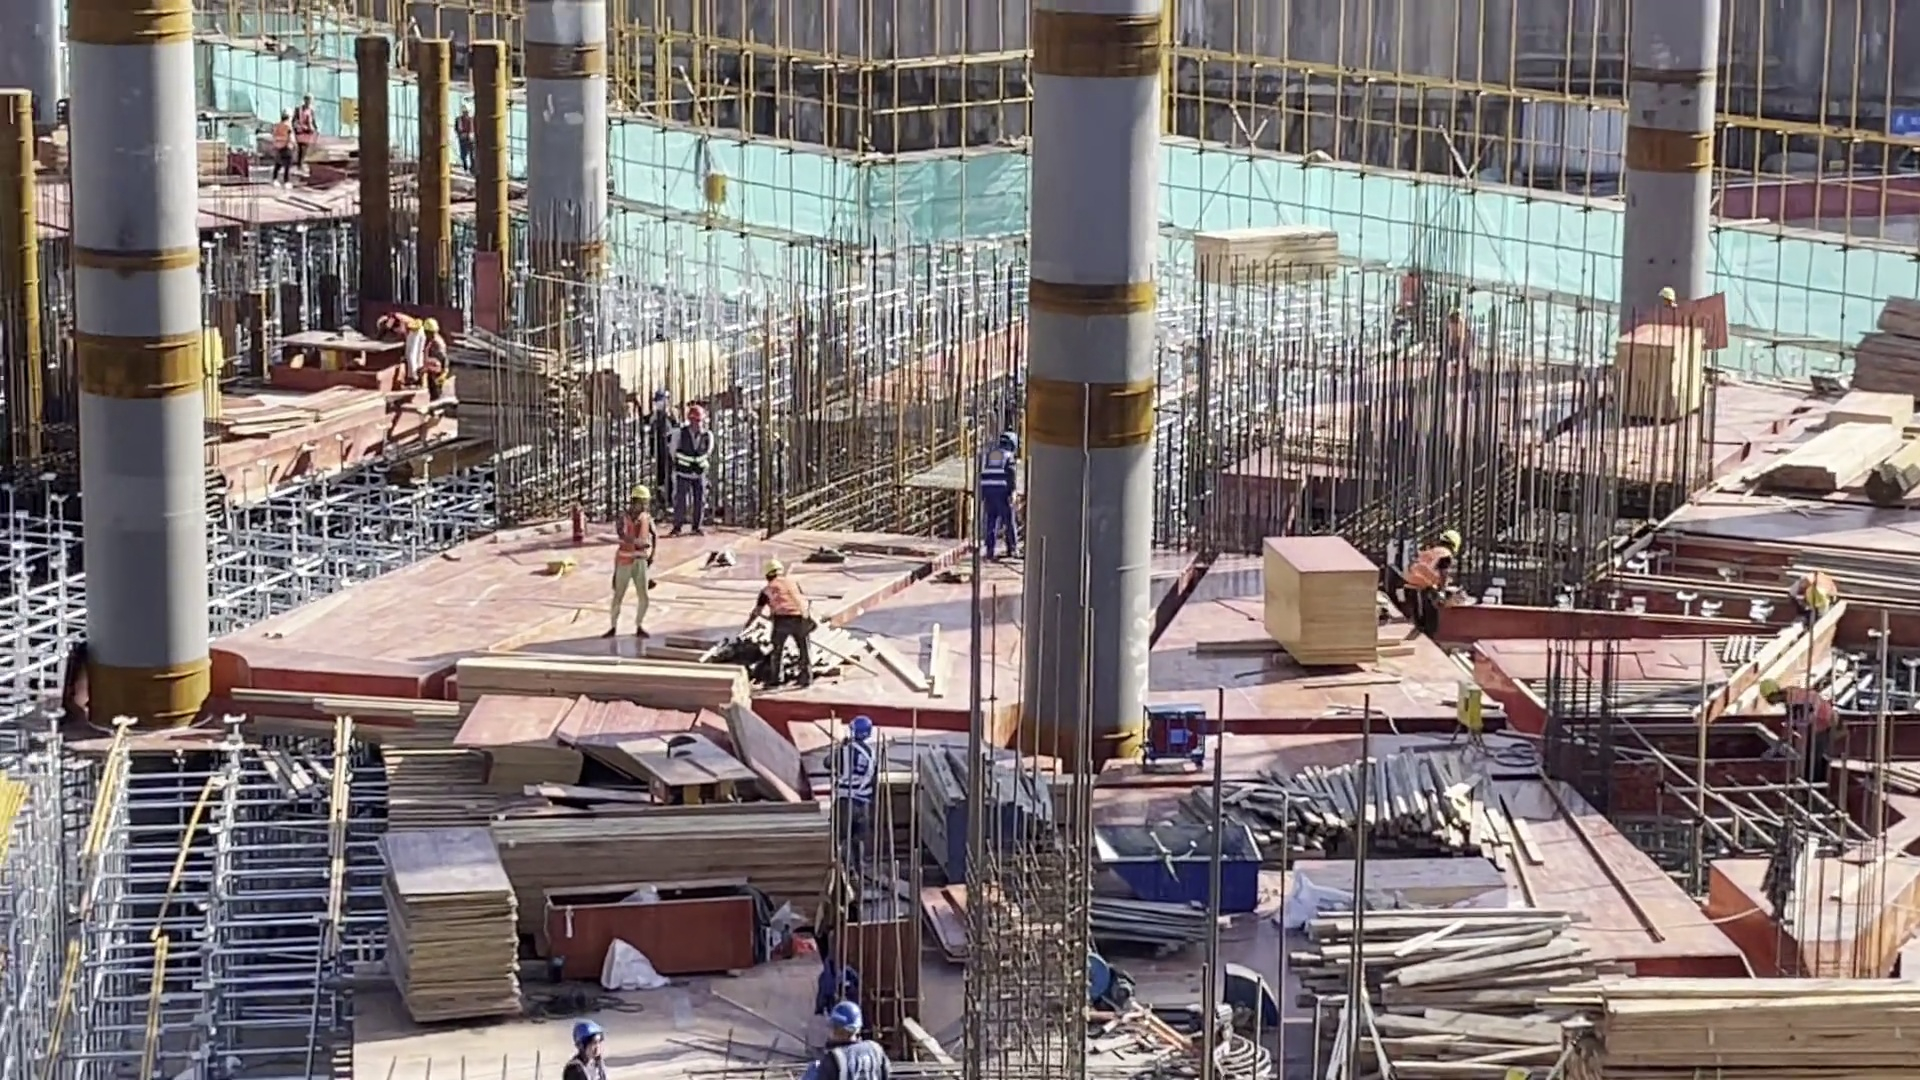board: (463, 787, 877, 968), (379, 739, 517, 1031), (1255, 519, 1390, 692), (1594, 311, 1704, 430), (1189, 220, 1351, 296)
helmet: (606, 468, 669, 504), (752, 545, 802, 588), (820, 989, 861, 1026), (1440, 519, 1482, 550), (577, 1011, 602, 1049)
hopper: (1090, 783, 1270, 935)
person: (598, 480, 667, 634), (742, 556, 821, 673), (1394, 524, 1459, 624), (971, 429, 1020, 553), (662, 406, 709, 537)
vest: (751, 580, 808, 620), (1406, 545, 1455, 584), (619, 506, 651, 560)
wood: (1571, 949, 1920, 1078)
